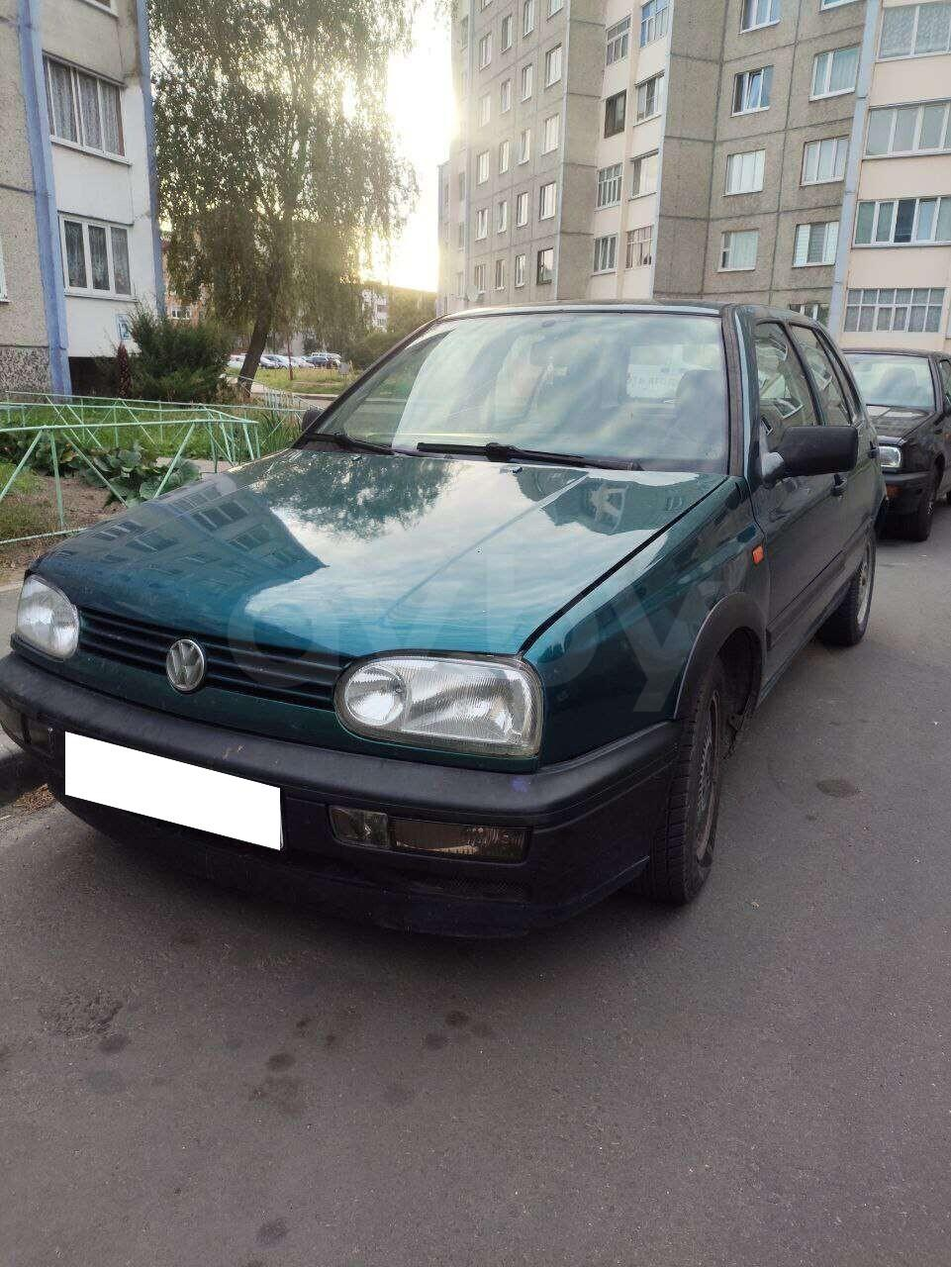Golf_1991-2000: (0, 292, 885, 946)
